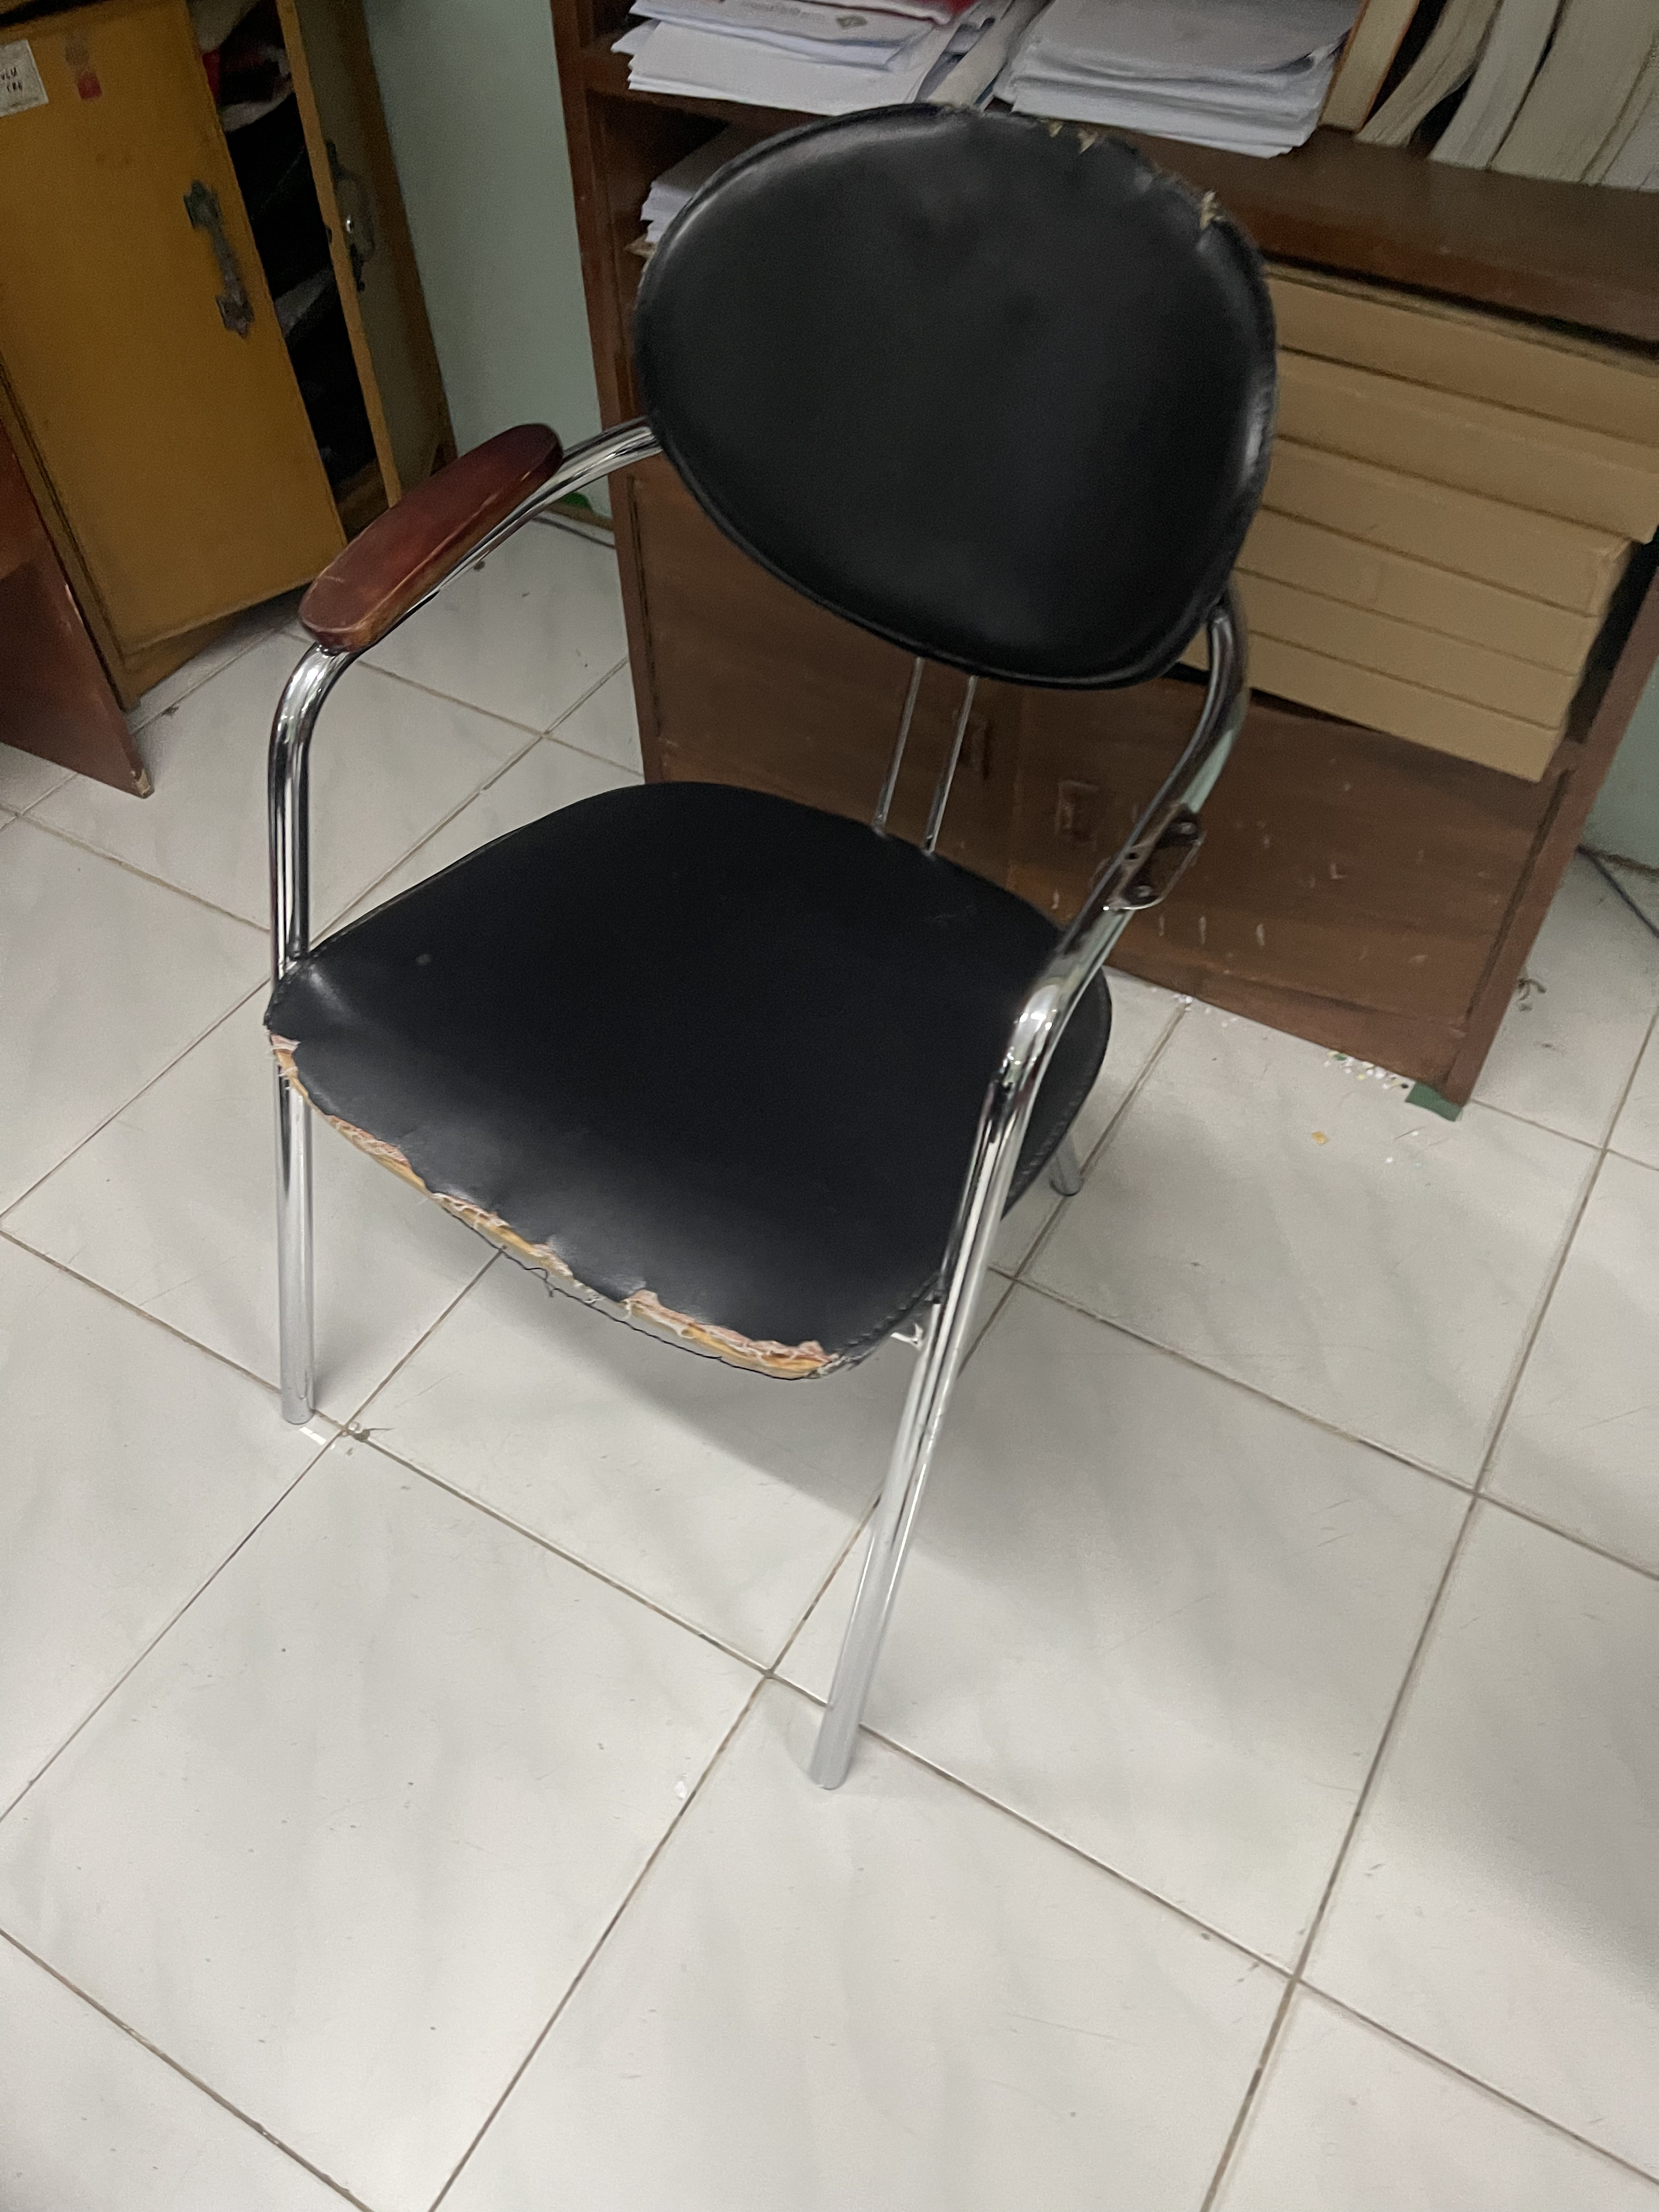chair1: (260, 105, 1284, 1796)
